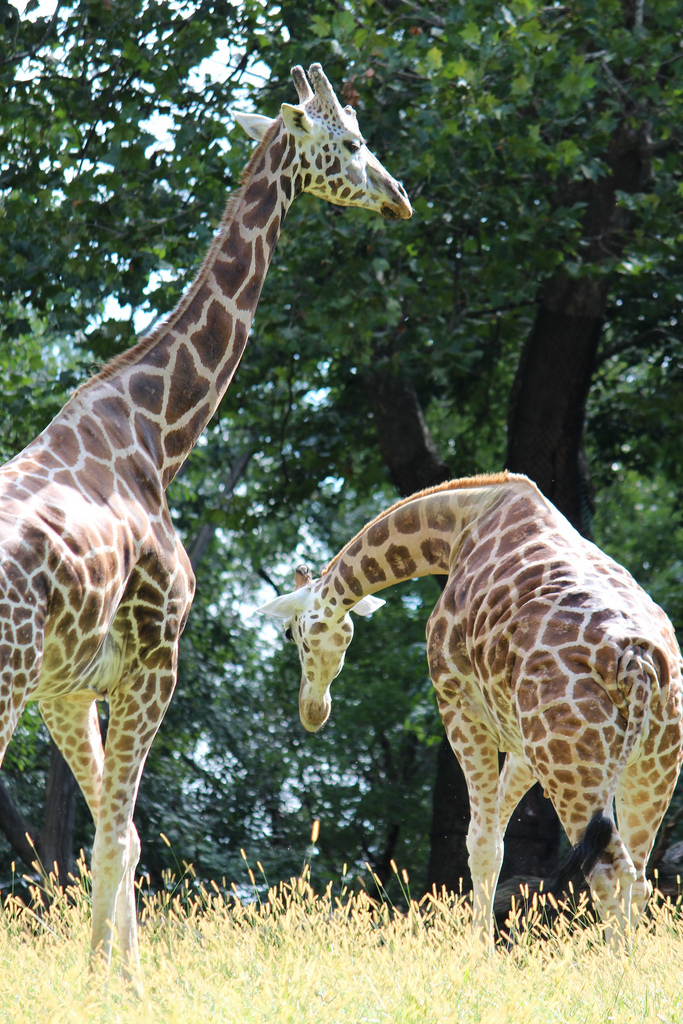giraffe: (23, 68, 425, 894), (290, 454, 664, 951)
